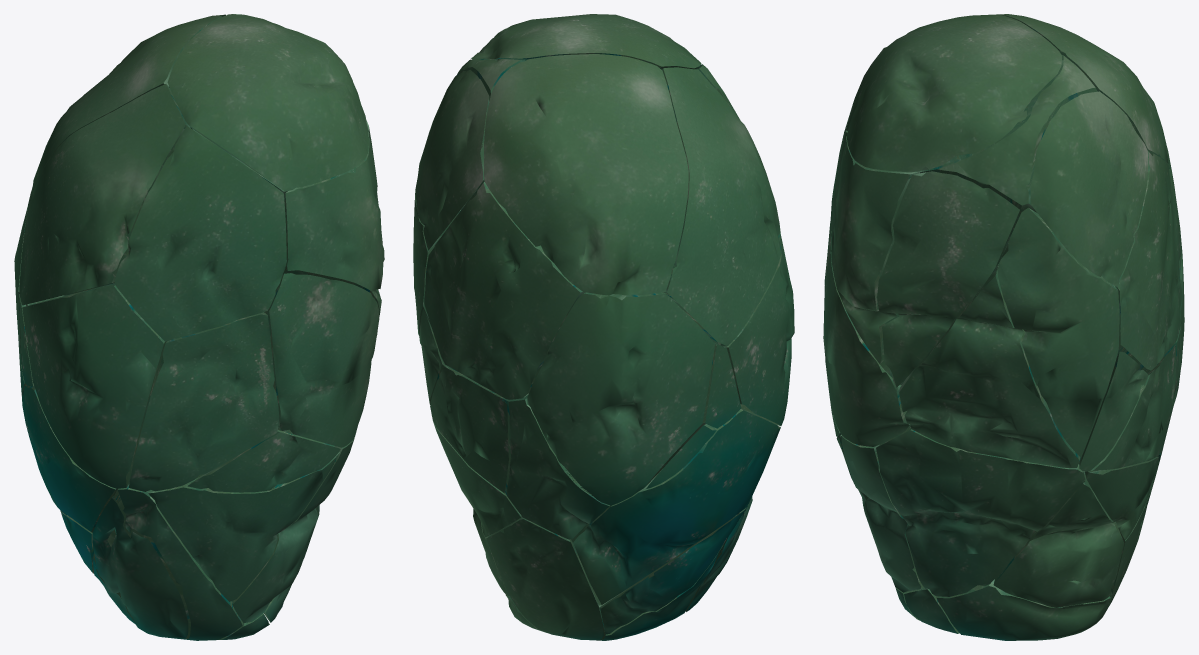
File: level2_rock.glb
3 renders of one model, left to right at view 1: azimuth 30°, elevation 25°; view 2: azimuth 150°, elevation 25°; view 3: azimuth 270°, elevation 25°, orthographic. The views are drawn at different scales.
Visible parts, largest first — view 1: tripo_node_d5d687f0_cell.002, tripo_node_d5d687f0_cell.041, tripo_node_d5d687f0_cell.016, tripo_node_d5d687f0_cell.028, tripo_node_d5d687f0_cell.011, tripo_node_d5d687f0_cell.045, tripo_node_d5d687f0_cell.042, tripo_node_d5d687f0_cell.023, tripo_node_d5d687f0_cell.001, tripo_node_d5d687f0_cell.033, tripo_node_d5d687f0_cell.029, tripo_node_d5d687f0_cell.021 (+5 smaller); view 2: tripo_node_d5d687f0_cell.029, tripo_node_d5d687f0_cell.024, tripo_node_d5d687f0_cell.016, tripo_node_d5d687f0_cell.007, tripo_node_d5d687f0_cell.027, tripo_node_d5d687f0_cell.005, tripo_node_d5d687f0_cell.025, tripo_node_d5d687f0_cell.041, tripo_node_d5d687f0_cell.014, tripo_node_d5d687f0_cell.028, tripo_node_d5d687f0_cell.015, tripo_node_d5d687f0_cell.038 (+9 smaller); view 3: tripo_node_d5d687f0_cell.041, tripo_node_d5d687f0_cell.019, tripo_node_d5d687f0_cell.018, tripo_node_d5d687f0_cell.012, tripo_node_d5d687f0_cell.036, tripo_node_d5d687f0_cell.025, tripo_node_d5d687f0_cell.023, tripo_node_d5d687f0_cell.007, tripo_node_d5d687f0_cell.034, tripo_node_d5d687f0_cell.045, tripo_node_d5d687f0_cell.022, tripo_node_d5d687f0_cell.035 (+8 smaller).
Boxes of the visible parts, x1,y1,x2,y2 form: tripo_node_d5d687f0_cell.002: (114, 126, 286, 341); tripo_node_d5d687f0_cell.041: (167, 14, 368, 191); tripo_node_d5d687f0_cell.016: (19, 84, 190, 305); tripo_node_d5d687f0_cell.028: (22, 283, 166, 488); tripo_node_d5d687f0_cell.011: (129, 312, 279, 491); tripo_node_d5d687f0_cell.045: (264, 273, 379, 447); tripo_node_d5d687f0_cell.042: (148, 430, 339, 601); tripo_node_d5d687f0_cell.023: (283, 132, 384, 316); tripo_node_d5d687f0_cell.001: (92, 495, 188, 639); tripo_node_d5d687f0_cell.033: (93, 484, 243, 640); tripo_node_d5d687f0_cell.029: (27, 14, 225, 208); tripo_node_d5d687f0_cell.021: (187, 431, 340, 492); tripo_node_d5d687f0_cell.029: (484, 54, 688, 295); tripo_node_d5d687f0_cell.024: (527, 292, 716, 505); tripo_node_d5d687f0_cell.016: (662, 67, 781, 346); tripo_node_d5d687f0_cell.007: (424, 181, 585, 399); tripo_node_d5d687f0_cell.027: (569, 409, 780, 605); tripo_node_d5d687f0_cell.005: (486, 516, 603, 640); tripo_node_d5d687f0_cell.025: (415, 69, 489, 250); tripo_node_d5d687f0_cell.041: (471, 14, 701, 69); tripo_node_d5d687f0_cell.014: (480, 386, 609, 539); tripo_node_d5d687f0_cell.028: (716, 233, 794, 426); tripo_node_d5d687f0_cell.015: (430, 366, 508, 493); tripo_node_d5d687f0_cell.038: (599, 510, 744, 634); tripo_node_d5d687f0_cell.041: (846, 14, 1061, 172); tripo_node_d5d687f0_cell.019: (876, 425, 1084, 596); tripo_node_d5d687f0_cell.018: (899, 241, 1080, 468); tripo_node_d5d687f0_cell.012: (877, 171, 1019, 387); tripo_node_d5d687f0_cell.036: (998, 207, 1119, 457); tripo_node_d5d687f0_cell.025: (1030, 91, 1148, 287); tripo_node_d5d687f0_cell.023: (831, 129, 918, 384); tripo_node_d5d687f0_cell.007: (1115, 151, 1181, 373); tripo_node_d5d687f0_cell.034: (993, 471, 1124, 607); tripo_node_d5d687f0_cell.045: (823, 210, 909, 446); tripo_node_d5d687f0_cell.022: (917, 55, 1097, 241); tripo_node_d5d687f0_cell.035: (936, 579, 1110, 640).
Bounding box in the file's own units: 0.4535 × 0.7648 × 0.4176.
Materials: 1 (1 with a texture image).
